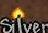torchT: (1, 0, 48, 33)
